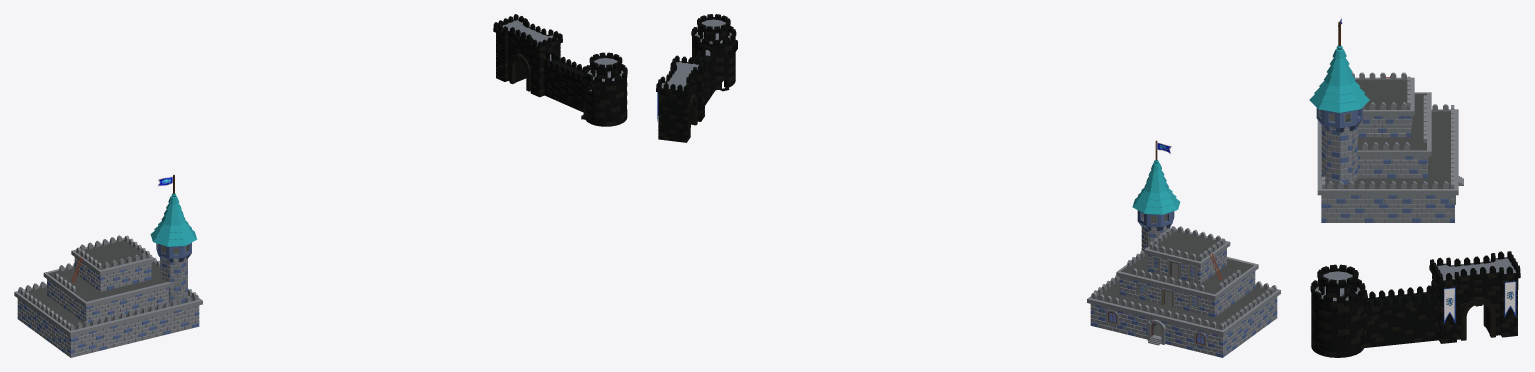
File: castle.glb
The picture shows the model from 3 angles, left to right: view 1: azimuth 30°, elevation 25°; view 2: azimuth 150°, elevation 25°; view 3: azimuth 270°, elevation 25°; orthographic projection. The views are drawn at different scales.
Visible parts, largest first — view 1: Keep.Level1.Primary.002, Keep.Level2.Primary, Gate.Primary.001, Wall.Primary, Turret.FrontLeft.Primary.002, Wall.Primary1.001, Castle.Tower.BackLeft.Roof, Level3.Floor, Castle.Level4.Floor.001, Keep.Level1.Secondary, Primary.001, Castle.Level2.Floor.001 (+3 smaller); view 2: Keep.Level1.Primary.002, Keep.Level2.Primary, Gate.Primary.001, Wall.Primary, Castle.Level2.Floor.001, Castle.Tower.BackLeft.Roof, Level3.Floor, Turret.FrontLeft.Primary.002, Keep.Level1.Secondary, Castle.Level4.Floor.001, Gate.Secondary.001, Turret.FrontLeft.Cap.Primary.001 (+3 smaller); view 3: Keep.Level1.Primary.002, Gate.Primary.001, Wall.Primary1.001, Turret.FrontLeft.Primary.002, Keep.Level2.Primary, Castle.Level2.Floor.001, Castle.Tower.BackLeft.Roof, Wall.Primary, Primary.001, Level3.Floor, Castle.Level4.Floor.001, Gate.Secondary.001 (+13 smaller).
Part boxes in pixels (x1,y1,x2,y2): Keep.Level1.Primary.002: [14, 281, 202, 357]; Keep.Level2.Primary: [43, 254, 174, 322]; Gate.Primary.001: [493, 14, 562, 96]; Wall.Primary: [71, 235, 154, 291]; Turret.FrontLeft.Primary.002: [583, 64, 627, 126]; Wall.Primary1.001: [543, 54, 585, 112]; Castle.Tower.BackLeft.Roof: [150, 193, 197, 246]; Level3.Floor: [48, 263, 167, 301]; Castle.Level4.Floor.001: [75, 239, 150, 269]; Keep.Level1.Secondary: [17, 301, 199, 353]; Primary.001: [160, 257, 187, 304]; Castle.Level2.Floor.001: [20, 285, 194, 329]; Keep.Level1.Primary.002: [1087, 275, 1280, 355]; Keep.Level2.Primary: [1116, 247, 1258, 315]; Gate.Primary.001: [656, 55, 706, 142]; Wall.Primary: [1144, 226, 1230, 283]; Castle.Level2.Floor.001: [1095, 280, 1271, 329]; Castle.Tower.BackLeft.Roof: [1132, 160, 1180, 214]; Level3.Floor: [1120, 254, 1254, 294]; Turret.FrontLeft.Primary.002: [691, 25, 737, 90]; Keep.Level1.Secondary: [1090, 299, 1277, 357]; Castle.Level4.Floor.001: [1149, 230, 1225, 261]; Gate.Secondary.001: [658, 62, 707, 142]; Turret.FrontLeft.Cap.Primary.001: [697, 14, 730, 41]; Keep.Level1.Primary.002: [1317, 104, 1458, 222]; Gate.Primary.001: [1430, 251, 1520, 343]; Wall.Primary1.001: [1364, 285, 1439, 347]; Turret.FrontLeft.Primary.002: [1310, 279, 1367, 357]; Keep.Level2.Primary: [1356, 92, 1431, 178]; Castle.Level2.Floor.001: [1325, 110, 1450, 188]; Castle.Tower.BackLeft.Roof: [1309, 45, 1369, 112]; Wall.Primary: [1351, 72, 1414, 137]; Primary.001: [1321, 125, 1357, 185]; Level3.Floor: [1358, 93, 1426, 150]; Castle.Level4.Floor.001: [1355, 79, 1409, 109]; Gate.Secondary.001: [1429, 258, 1517, 343].
Size of what is drawn, in the model's own units: 31.13 by 8.55 by 8.06.
58 materials, 23 textured.
